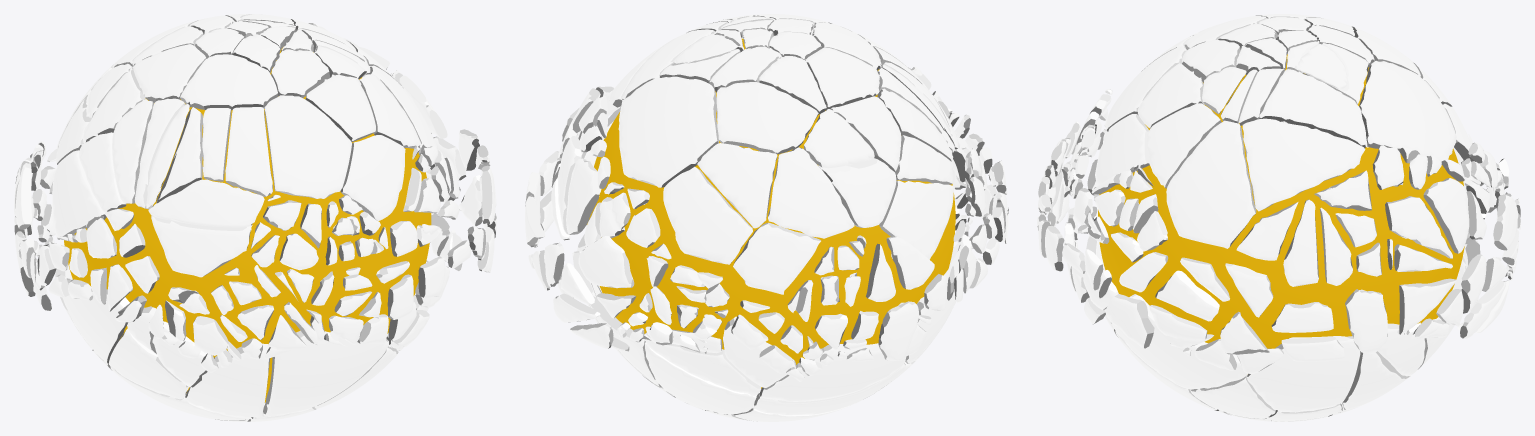
File: world.glb
3 views of the same model, side by side, from view 1: azimuth 30°, elevation 25°; view 2: azimuth 150°, elevation 25°; view 3: azimuth 270°, elevation 25° (orthographic).
Visible parts, largest first — view 1: world, world.030, world.032, world.065, world.005, world.080, world.054, world.047, world.040, world.015, world.057, world.085 (+66 smaller); view 2: world, world.070, world.027, world.036, world.016, world.041, world.006, world.075, world.015, world.033, world.085, world.022 (+58 smaller); view 3: world, world.031, world.066, world.070, world.028, world.020, world.060, world.042, world.005, world.057, world.209, world.172 (+61 smaller).
Part boxes in pixels (bbox=[...]): world: bbox=[64, 47, 431, 402]; world.030: bbox=[264, 95, 351, 198]; world.032: bbox=[263, 330, 388, 416]; world.065: bbox=[180, 54, 277, 110]; world.005: bbox=[340, 135, 405, 220]; world.080: bbox=[185, 343, 270, 417]; world.054: bbox=[151, 215, 252, 277]; world.047: bbox=[148, 179, 264, 227]; world.040: bbox=[225, 107, 272, 196]; world.015: bbox=[52, 150, 106, 239]; world.057: bbox=[305, 74, 375, 141]; world.085: bbox=[133, 44, 206, 102]; world: bbox=[587, 38, 955, 388]; world.070: bbox=[618, 76, 718, 187]; world.027: bbox=[716, 82, 818, 154]; world.036: bbox=[663, 166, 752, 264]; world.016: bbox=[768, 147, 854, 238]; world.041: bbox=[759, 343, 906, 401]; world.006: bbox=[697, 143, 777, 228]; world.075: bbox=[733, 222, 820, 294]; world.015: bbox=[879, 180, 953, 259]; world.033: bbox=[818, 158, 896, 227]; world.085: bbox=[805, 47, 879, 110]; world.022: bbox=[645, 343, 756, 414]; world: bbox=[1098, 54, 1464, 348]; world.031: bbox=[1166, 120, 1256, 248]; world.066: bbox=[1242, 118, 1365, 211]; world.070: bbox=[1359, 60, 1456, 164]; world.028: bbox=[1247, 336, 1360, 412]; world.020: bbox=[1259, 69, 1367, 148]; world.060: bbox=[1111, 294, 1247, 389]; world.042: bbox=[1146, 103, 1221, 188]; world.005: bbox=[1095, 114, 1149, 184]; world.057: bbox=[1137, 63, 1204, 128]; world.209: bbox=[1385, 196, 1452, 258]; world.172: bbox=[1345, 289, 1387, 354].
Bounding box in the file's own units: 2.84 × 2.4 × 2.84.
